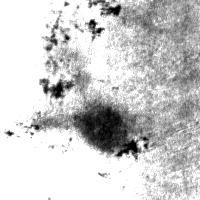patches: (0, 18, 66, 128), (70, 100, 128, 159), (13, 0, 81, 39), (156, 0, 200, 58)
